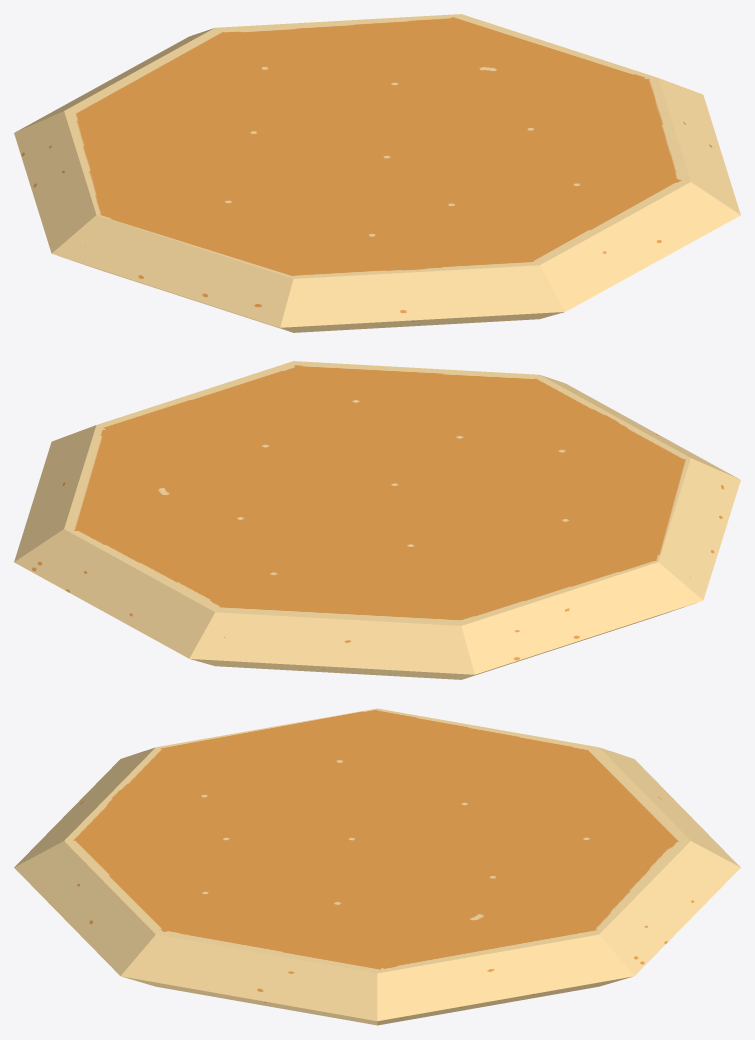
File: hotcake.fbx
3 views of the same model, one above another, from view 1: azimuth 30°, elevation 25°; view 2: azimuth 150°, elevation 25°; view 3: azimuth 270°, elevation 25° (orthographic). The views are drawn at different scales.
Visible parts, largest first — view 1: Sphere; view 2: Sphere; view 3: Sphere.
Boxes of the visible parts, <box> form: Sphere: <box>14,14,740,332</box>; Sphere: <box>14,361,740,679</box>; Sphere: <box>14,708,740,1025</box>.
Size of the model in its own units: 241 by 19.08 by 241.
